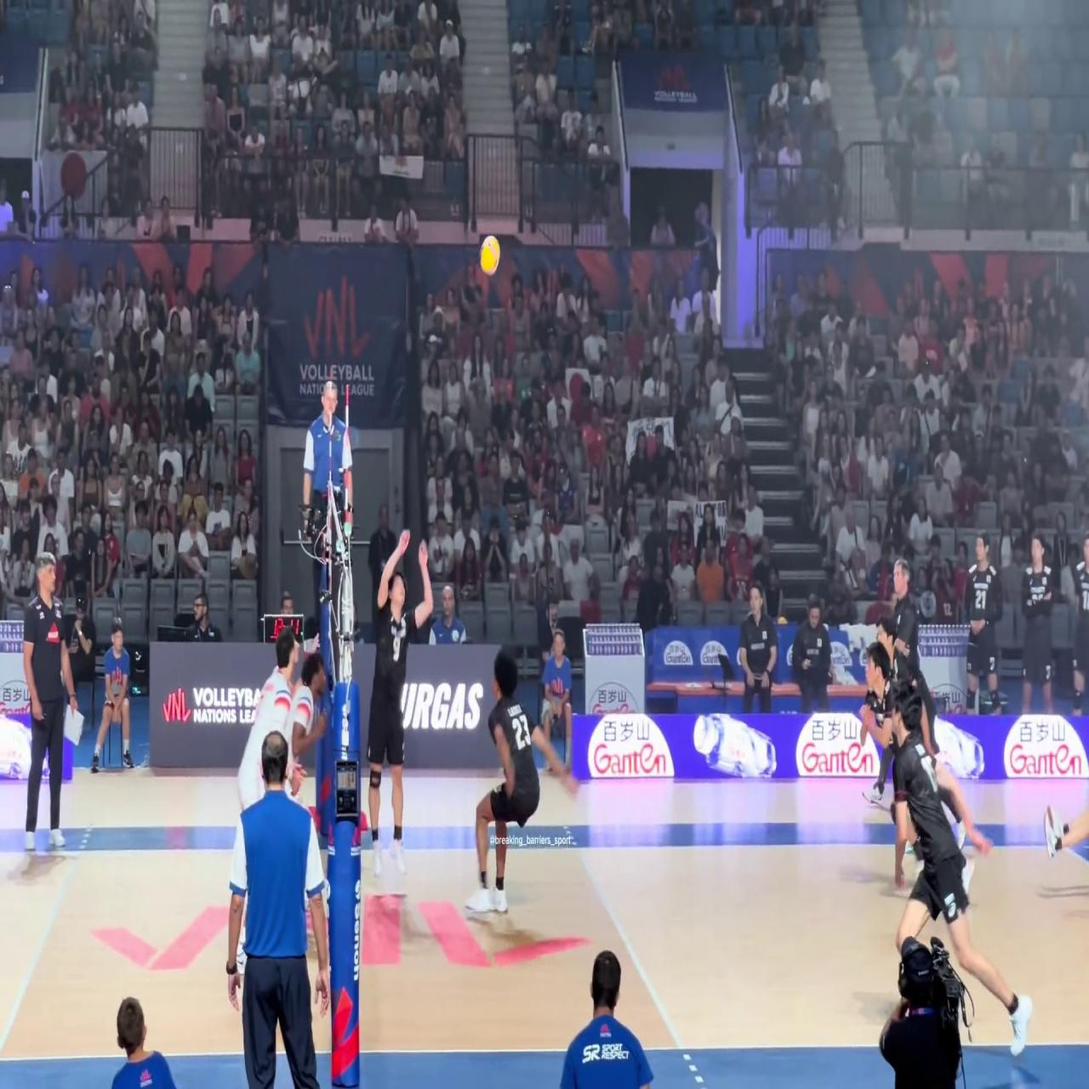ball: (480, 236, 500, 274)
